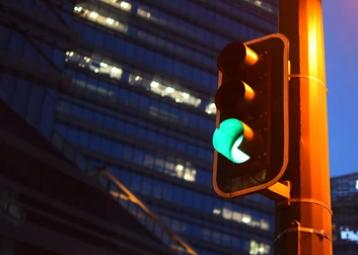green_light: (212, 32, 289, 198)
